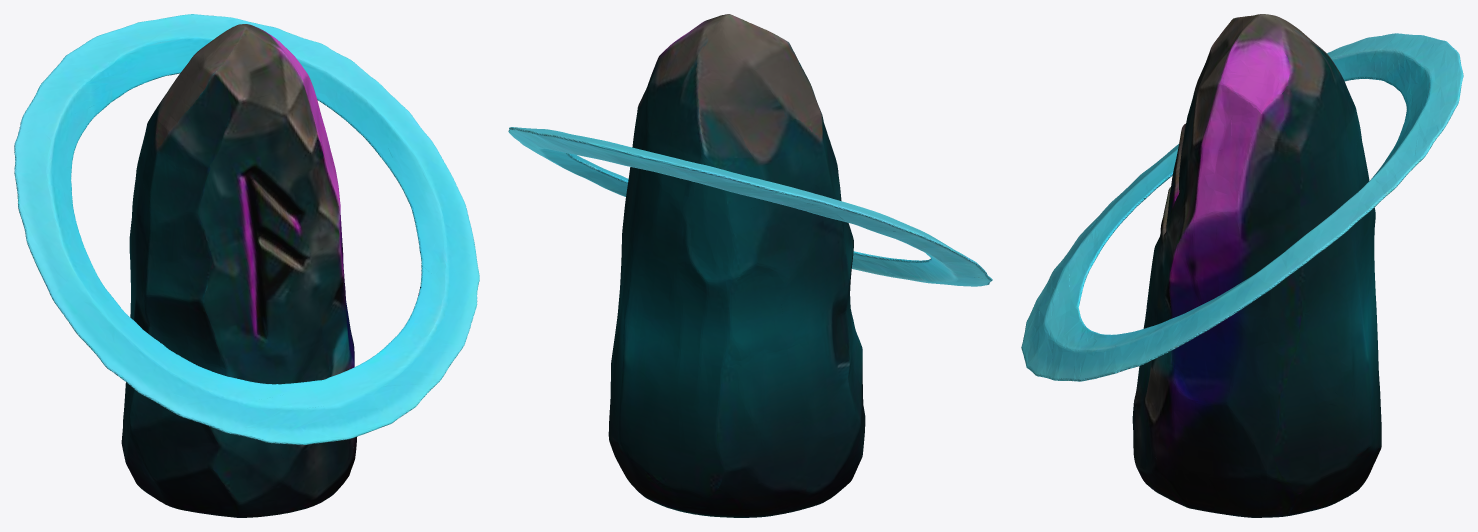
Rendered from WARDSTONE.glb.
3 renders of one model, left to right at view 1: azimuth 30°, elevation 25°; view 2: azimuth 150°, elevation 25°; view 3: azimuth 270°, elevation 25°, orthographic. The views are drawn at different scales.
Visible parts, largest first — view 1: WARDSTONE_512; view 2: WARDSTONE_512; view 3: WARDSTONE_512.
Part boxes in pixels (<box>): WARDSTONE_512: <box>14,14,479,517</box>; WARDSTONE_512: <box>508,14,992,517</box>; WARDSTONE_512: <box>1021,14,1463,517</box>.
Size of the model in its own units: 1.95 by 1.99 by 1.74.
1 material, 1 textured.
